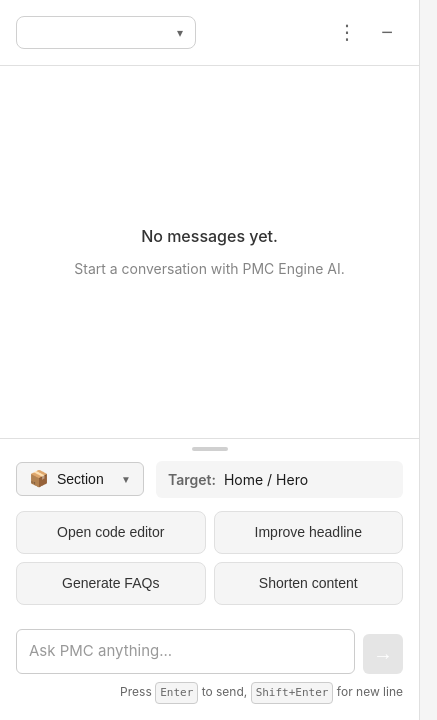
Keyboard Navigation - T069 › Keyboard Shortcuts › supports Escape to close overflow menu
# Open menu
Click the button named "Chat options menu": (347, 32) [331,16,363,48]
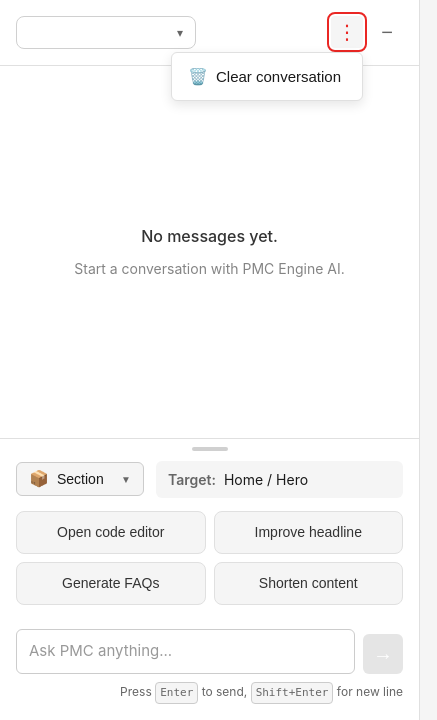
Check: the menu is shown, box [171,52,363,101]
# Press Escape
Press Escape
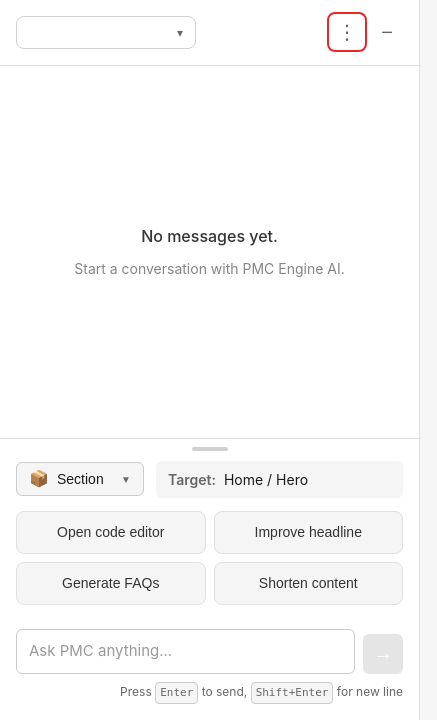
Check: the menu is gone
